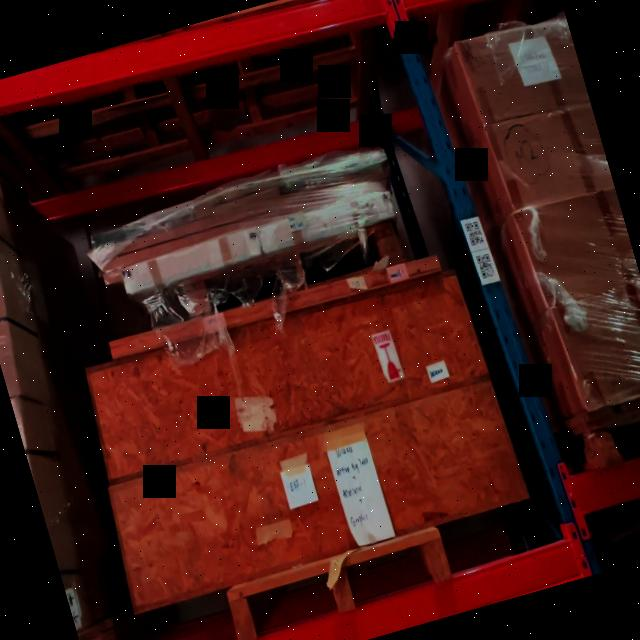box: (108, 379, 526, 609), (84, 266, 484, 479)
